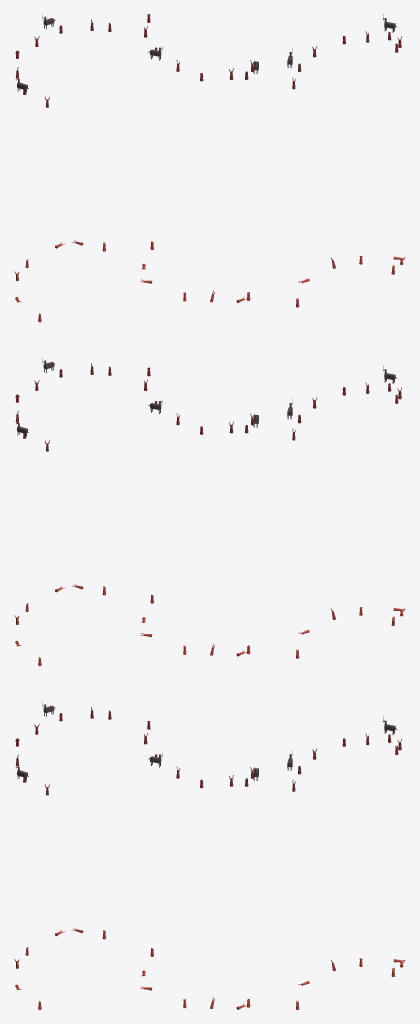
File: Circle7Folk2.obj
3 views of the same model, side by side, from view 1: azimuth 30°, elevation 25°; view 2: azimuth 150°, elevation 25°; view 3: azimuth 330°, elevation 25° (orthographic). The views are drawn at different scales.
Visible parts, largest first — view 1: Circle7Folk2; view 2: Circle7Folk2; view 3: Circle7Folk2.
Boxes of the visible parts, x1=… form: Circle7Folk2: x1=14, y1=14, x2=111, y2=1009; Circle7Folk2: x1=140, y1=14, x2=258, y2=1009; Circle7Folk2: x1=287, y1=14, x2=405, y2=1009.
Bounding box in the file's own units: 27.64 × 250 × 22.94.
1 material, 1 textured.
